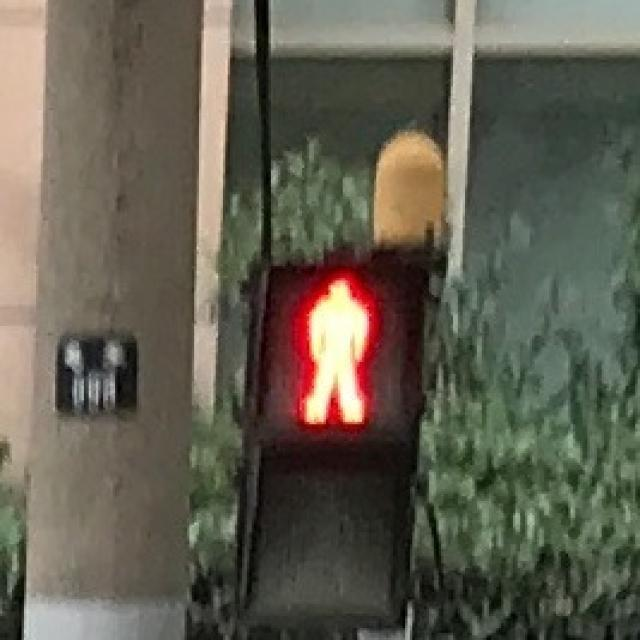red-crossing: (268, 263, 398, 438)
